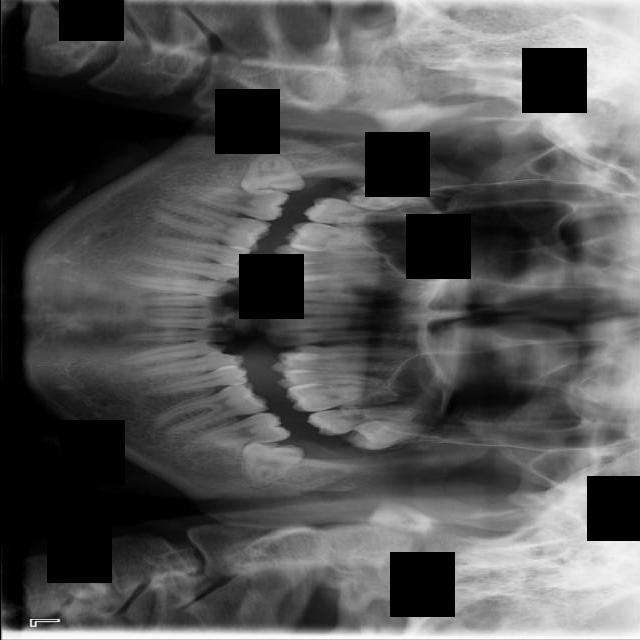3M ESPE Implant: (346, 184, 431, 210)
73: (35, 613, 55, 627)
BioHorizons Implant: (306, 405, 414, 436)
BioLife Implant: (346, 420, 434, 451)
Biomet 3i Implant: (243, 440, 303, 488)
Blue Sky Bio Implant: (181, 409, 290, 453)
Caries: (301, 194, 422, 239)
Implant: (170, 183, 287, 222)
Keystone Dental Implant: (236, 149, 305, 200)
